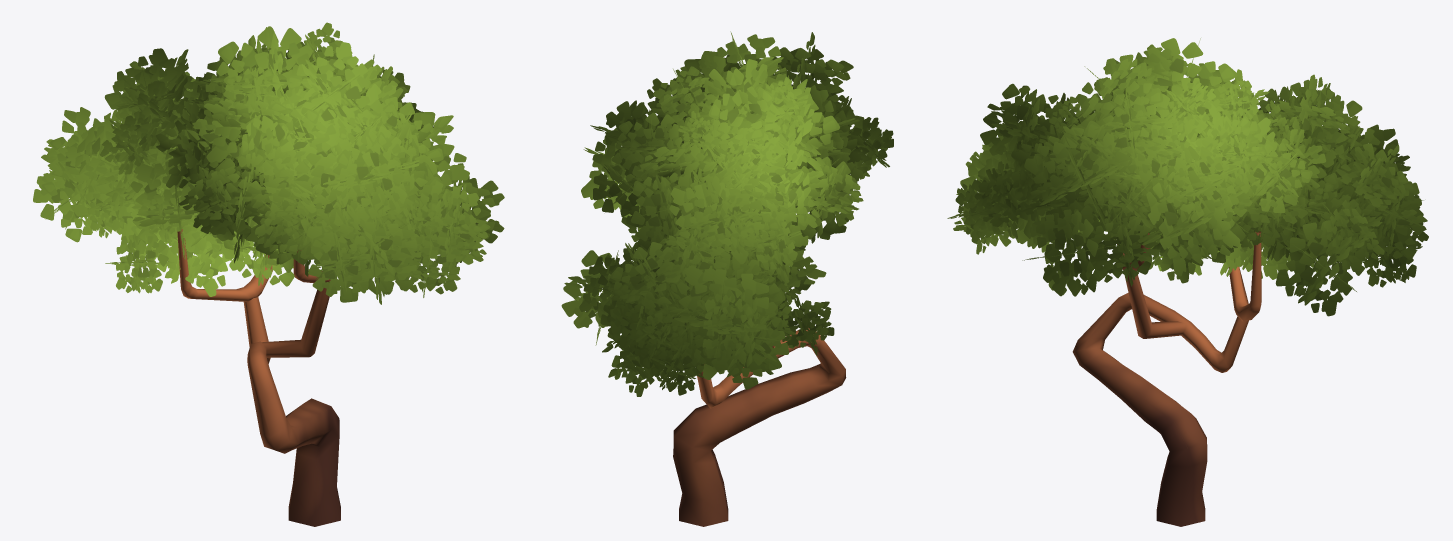
The model's file is swiggly_02.glb.
The picture shows the model from 3 angles, left to right: view 1: azimuth 30°, elevation 25°; view 2: azimuth 150°, elevation 25°; view 3: azimuth 270°, elevation 25°; orthographic projection. The views are drawn at different scales.
Parts seen in each view (by area): view 1: swiggly_02; view 2: swiggly_02; view 3: swiggly_02.
Boxes of the visible parts, x1=… form: swiggly_02: x1=33, y1=22, x2=504, y2=526; swiggly_02: x1=561, y1=31, x2=893, y2=526; swiggly_02: x1=947, y1=38, x2=1428, y2=526.
Size of the model in its own units: 4.52 by 6.58 by 6.34.
Materials: 2 (2 with a texture image).
